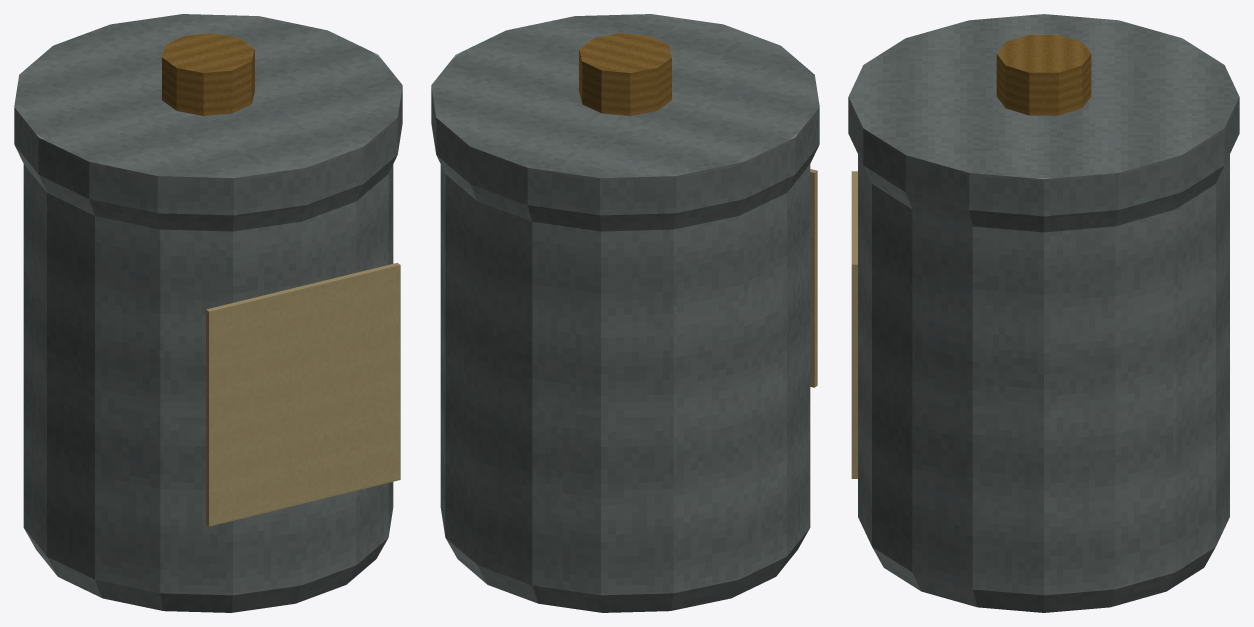
The model's file is level_loose_tin.glb.
The picture shows the model from 3 angles, left to right: view 1: azimuth 30°, elevation 25°; view 2: azimuth 150°, elevation 25°; view 3: azimuth 270°, elevation 25°; orthographic projection.
Parts seen in each view (by area): view 1: level_loose_tin; view 2: level_loose_tin; view 3: level_loose_tin.
Boxes of the visible parts, x1,y1,x2,y2 form: level_loose_tin: [14, 14, 402, 612]; level_loose_tin: [431, 14, 819, 612]; level_loose_tin: [848, 14, 1239, 612].
Bounding box in the file's own units: 0.124 × 0.17 × 0.124.
3 materials, 3 textured.
